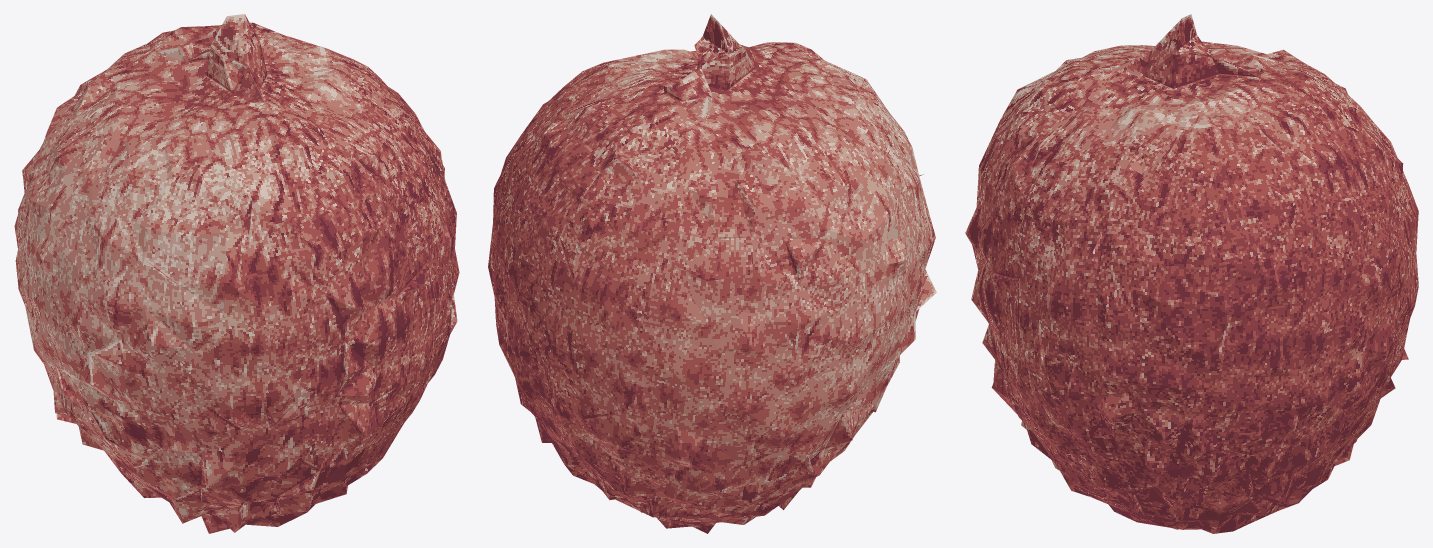
File: lychee.glb
3 views of the same model, side by side, from view 1: azimuth 30°, elevation 25°; view 2: azimuth 150°, elevation 25°; view 3: azimuth 270°, elevation 25° (orthographic).
Parts seen in each view (by area): view 1: model_m; view 2: model_m; view 3: model_m.
Part boxes in pixels (x1,y1,x2,y2): model_m: [14, 14, 459, 533]; model_m: [488, 14, 936, 533]; model_m: [965, 14, 1418, 533].
Size of the model in its own units: 30.29 by 36.56 by 30.3.
Materials: 1 (1 with a texture image).
